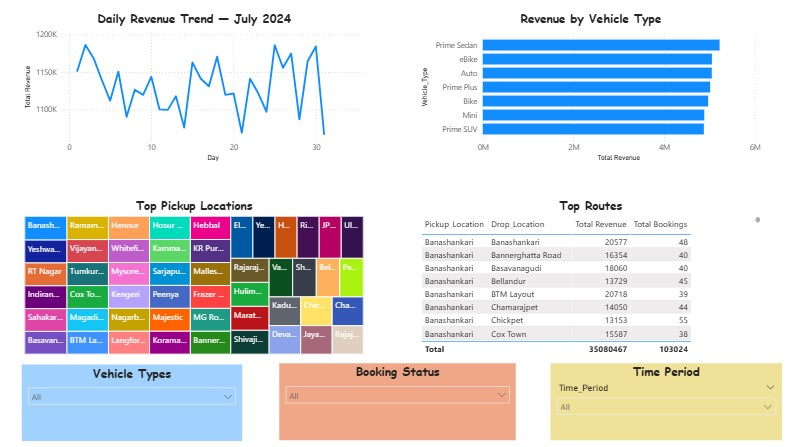

The page's visual inventory and layout, read from the dashboard file:
{"tool":"powerbi","page":{"name":"Revenue Analysis","canvas":[1280,720],"ordinal":1},"visuals":[{"type":"lineChart","title":"Daily Revenue Trend — July 2024","fields":{"Category":["cleaned_bookings.Day"],"Y":["cleaned_bookings.Total Revenue"]},"box":[38.4,19.2,551.6,248.4],"z":0},{"type":"barChart","title":"Revenue by Vehicle Type","fields":{"Category":["cleaned_bookings.Vehicle_Type"],"Y":["cleaned_bookings.Total Revenue"]},"box":[671,19.2,553,248.4],"z":1000},{"type":"treemap","title":"Top Pickup Locations","fields":{"Group":["cleaned_bookings.Pickup_Location"],"Values":["cleaned_bookings.Total Bookings"]},"box":[38.4,319.7,551.6,256.6],"z":2000},{"type":"tableEx","title":"Top Routes","fields":{"Values":["cleaned_bookings.Pickup_Location","cleaned_bookings.Drop_Location","cleaned_bookings.Total Revenue","cleaned_bookings.Total Bookings"]},"box":[671,319.7,553,256.6],"z":3000},{"type":"slicer","title":"Vehicle Types","fields":{"Values":["cleaned_bookings.Vehicle_Type"]},"box":[38.4,587.3,352.7,122.1],"z":3001},{"type":"slicer","title":"Booking Status","fields":{"Values":["cleaned_bookings.Booking_Status"]},"box":[450.1,585.9,378.7,123.5],"z":3002},{"type":"slicer","title":"Time Period","fields":{"Values":["cleaned_bookings.Time_Period"]},"box":[883.7,585.9,370.5,123.5],"z":3003}]}

Visuals, with their boxes in screenshot pixels (x1, y1, x2, y2), scaled from the page's 1280x720 canvas onto the 795x447 screenshot:
"Daily Revenue Trend — July 2024" lineChart: box(24, 12, 366, 166)
"Revenue by Vehicle Type" barChart: box(417, 12, 760, 166)
"Top Pickup Locations" treemap: box(24, 198, 366, 358)
"Top Routes" tableEx: box(417, 198, 760, 358)
"Vehicle Types" slicer: box(24, 365, 243, 440)
"Booking Status" slicer: box(280, 364, 515, 440)
"Time Period" slicer: box(549, 364, 779, 440)
